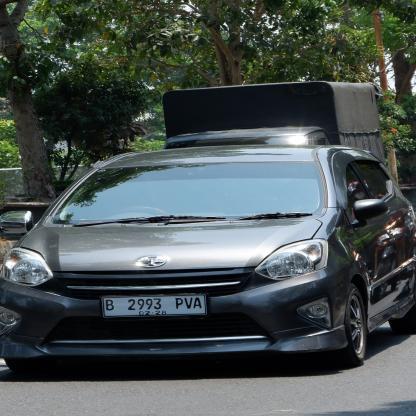Plat-Nomor: (99, 292, 209, 318)
